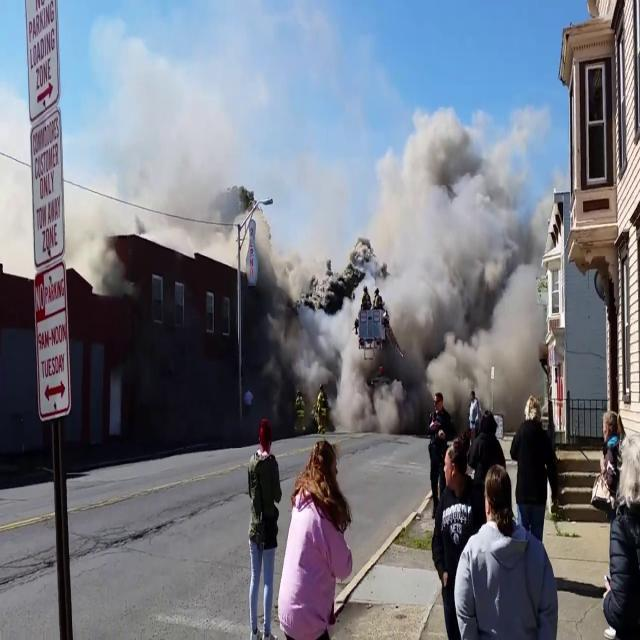Smoke: (316, 92, 549, 424)
